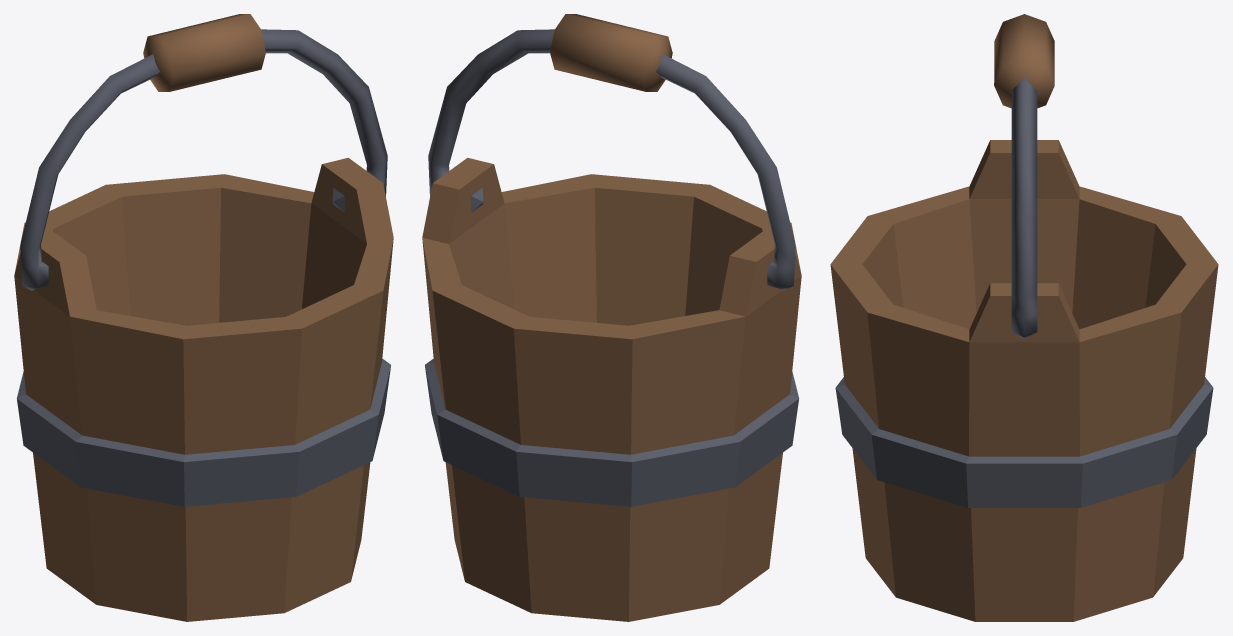
Rendered from swamp_bucket.fbx.
The picture shows the model from 3 angles, left to right: view 1: azimuth 30°, elevation 25°; view 2: azimuth 150°, elevation 25°; view 3: azimuth 270°, elevation 25°; orthographic projection.
Visible parts, largest first — view 1: Bucket, Bucket_handle; view 2: Bucket, Bucket_handle; view 3: Bucket, Bucket_handle.
Part boxes in pixels (x1,y1,x2,y2): Bucket: (14,157,393,621); Bucket_handle: (20,14,387,290); Bucket: (422,157,801,621); Bucket_handle: (428,14,795,290); Bucket: (830,140,1218,621); Bucket_handle: (994,14,1054,339).
Bounding box in the file's own units: 0.3324 × 0.4572 × 0.3079.
